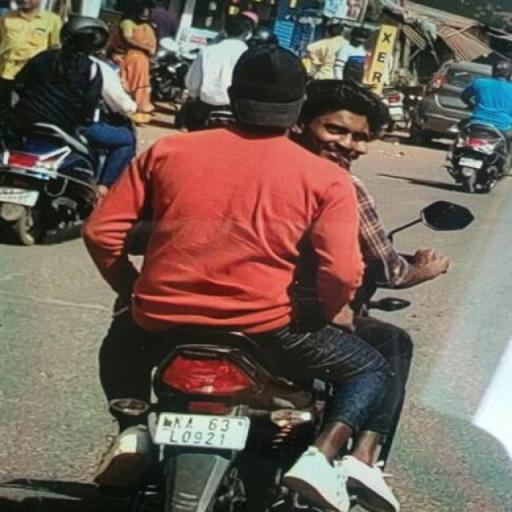tripple riding: (68, 38, 482, 347)
